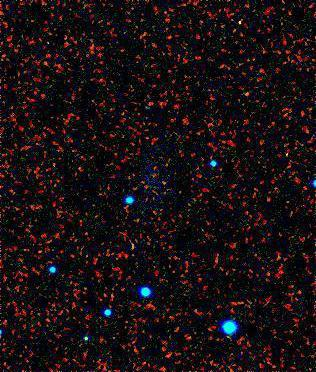star: (234, 80, 264, 110)
